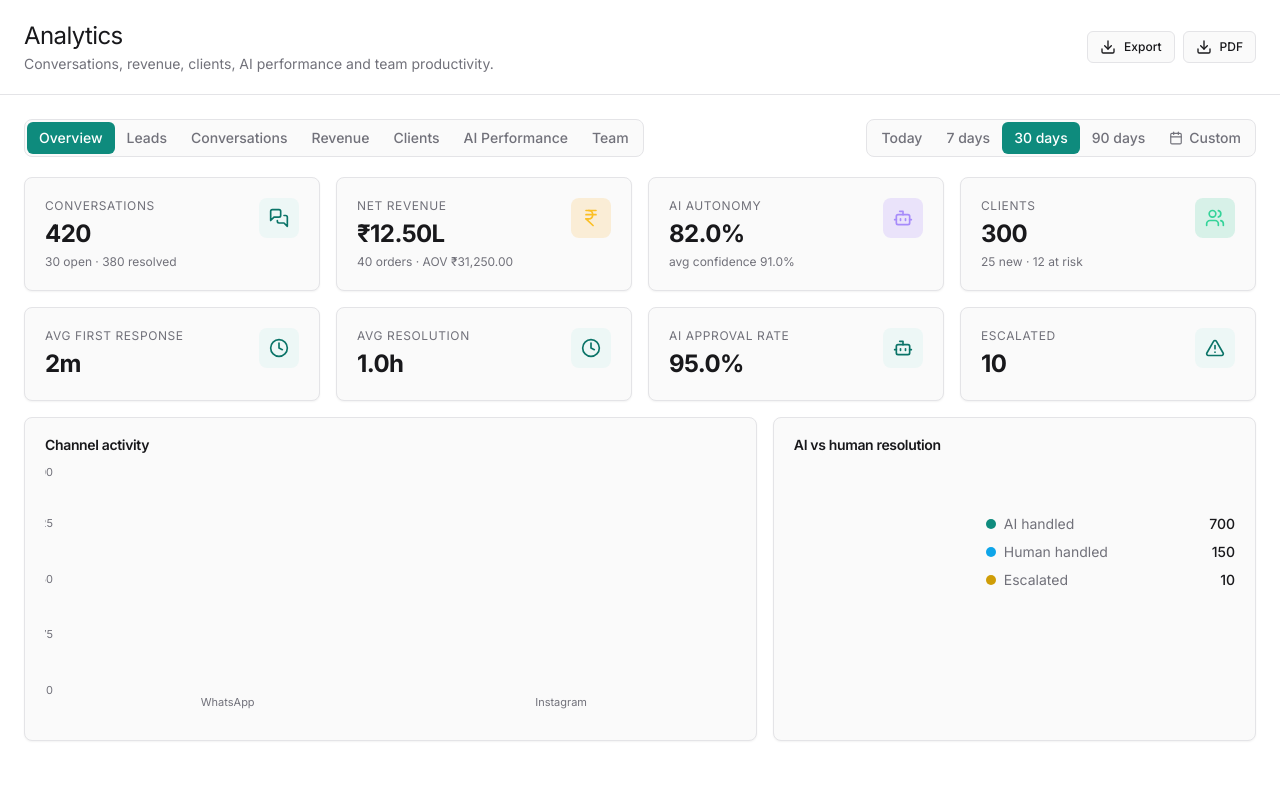
Test: ConversationsSection › reports empty series without collapsing the whole section
Click the button "Conversations" at (239, 138), box [179, 122, 300, 154]
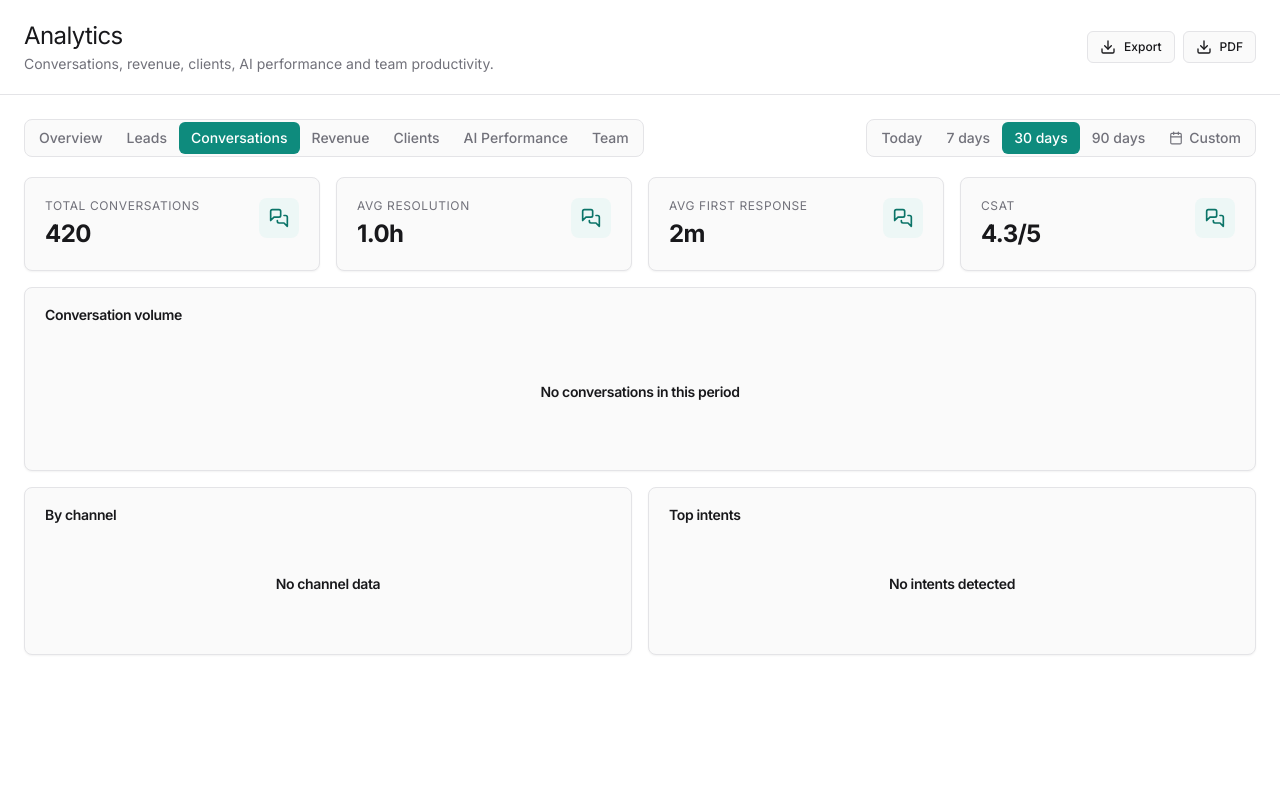
expect the heading "No conversations in this period" is shown: met, box [540, 382, 740, 402]
expect the heading "No channel data" is shown: met, box [276, 574, 380, 594]
expect the heading "No intents detected" is shown: met, box [889, 574, 1015, 594]
